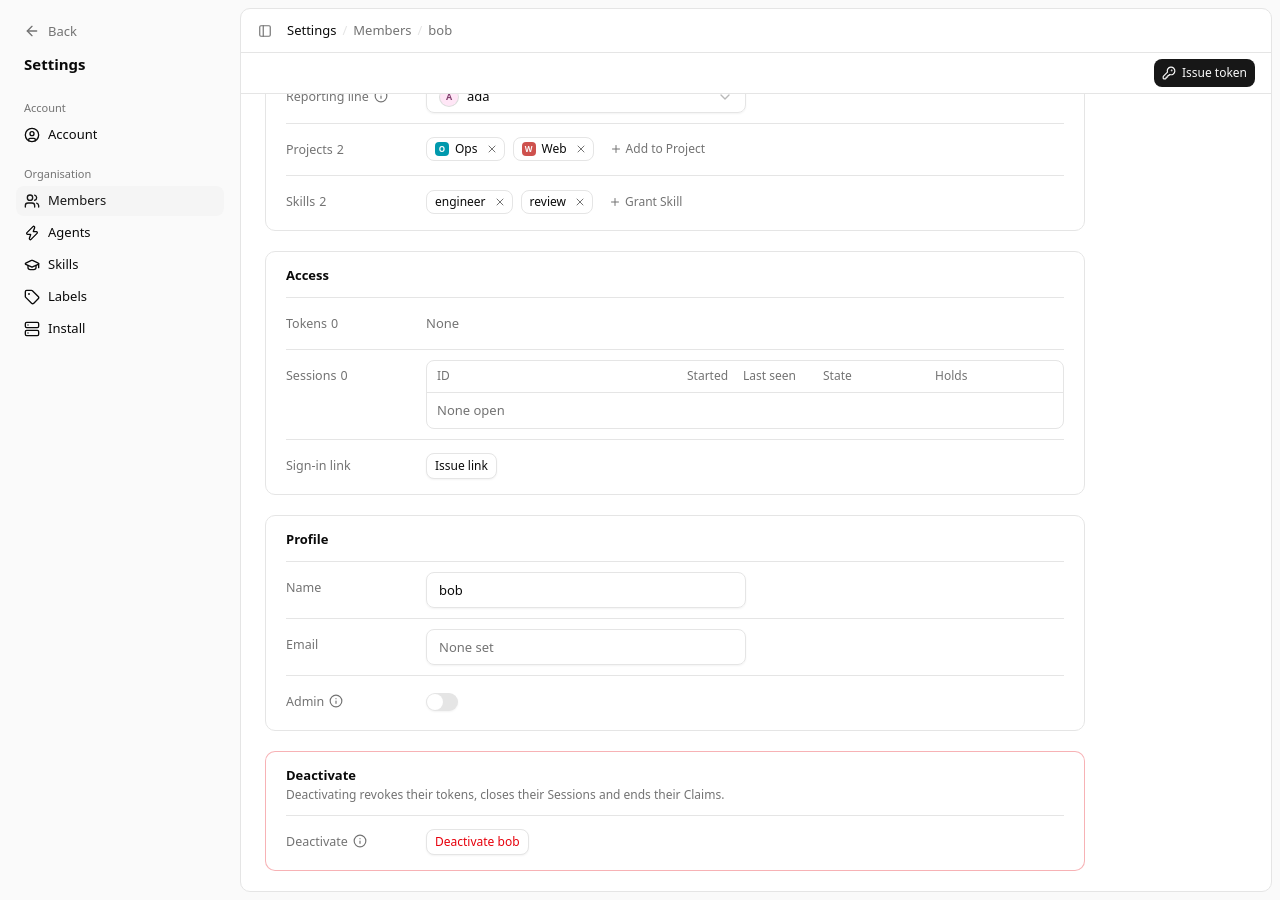
it: Settings › a Member › a Member who holds nothing is deactivated with nothing listed
The width and height of the screenshot is (1280, 900).
(page scrolled)
Click the button "Deactivate bob".
click(477, 842)  # box [426, 829, 528, 855]
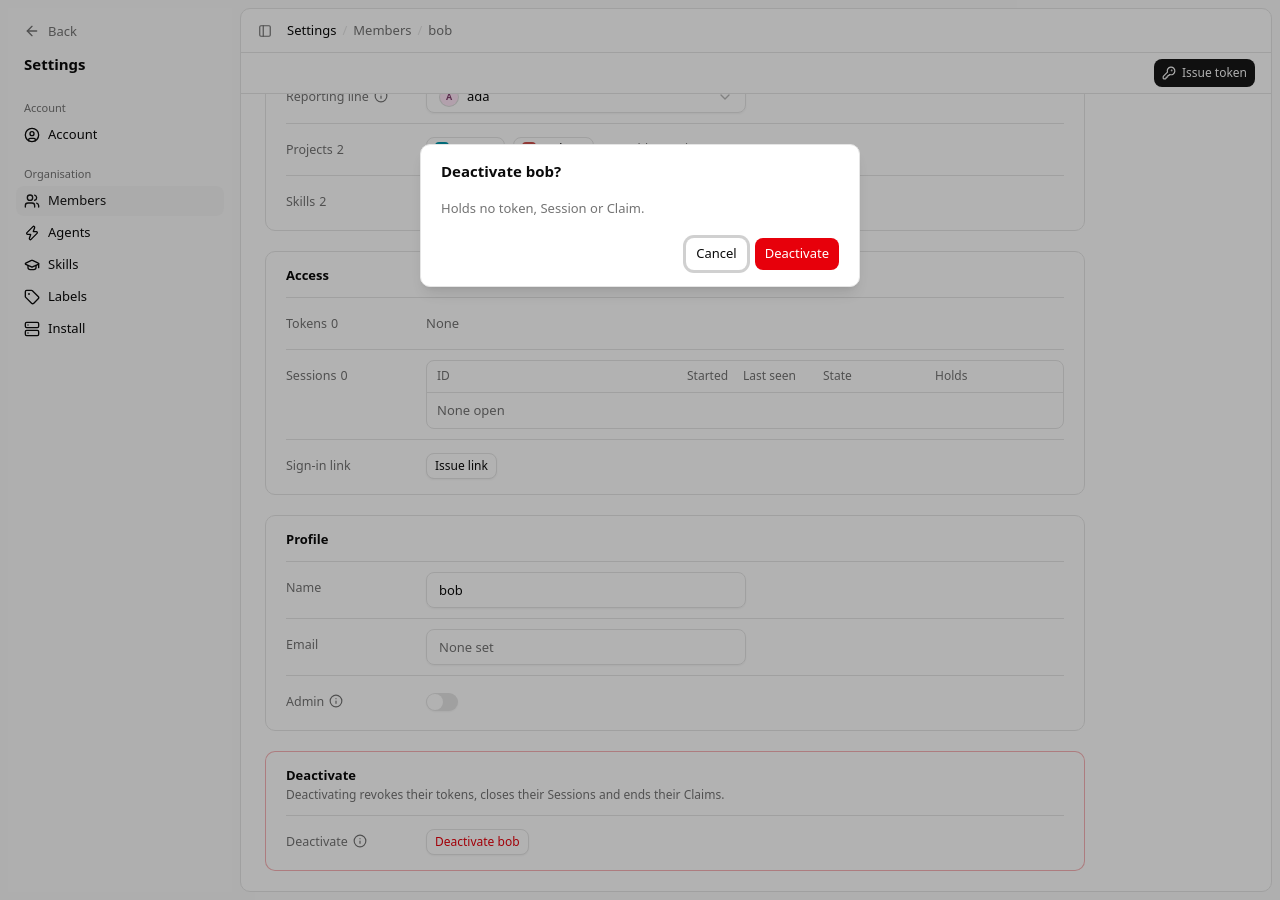
Check: the dialog "Deactivate bob?" shows "Holds no token, Session or Claim.", box [441, 199, 644, 217]
